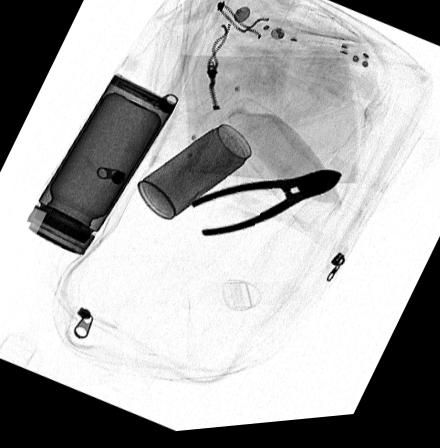Pliers: (187, 173, 341, 241)
